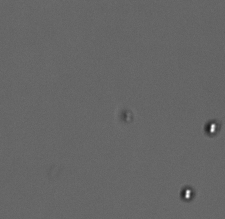Dead Cell: (117, 107, 134, 126)
Living Cell: (179, 185, 196, 203), (204, 119, 220, 137)
